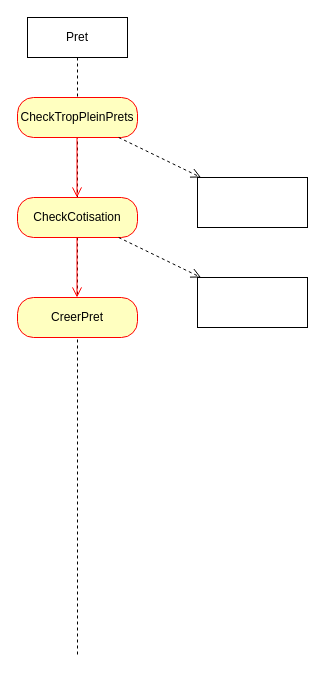
The diagram is 325 pixels wide and 675 high, and some of its shapes have lost their labels. The shapes that lost their labels are listed below. From the top down, each one's centre as x and y in pixels, then its label:
At point (252, 202): "Refus trop plein prets".
At point (252, 302): "Refus cotisation non payée".
